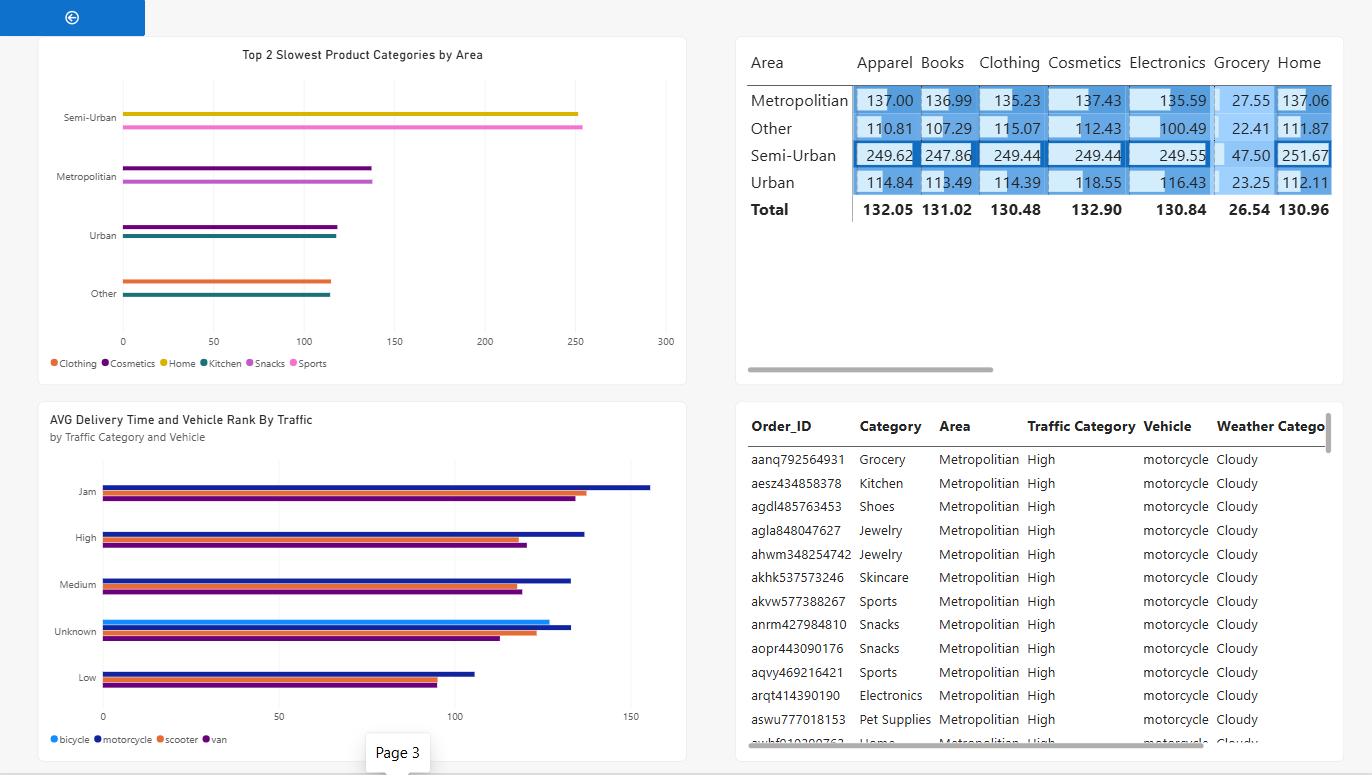

What the dashboard file says about the page in this screenshot:
{"tool":"powerbi","page":{"name":"Page 3","canvas":[1920,1080],"ordinal":2},"visuals":[{"type":"clusteredBarChart","title":"Top 2 Slowest Product Categories by Area","fields":{"Y":["Avg(amazon_delivery.Delivery_Time)"],"Series":["amazon_delivery.Category"],"Category":["amazon_delivery.Area"]},"box":[54.1,52.3,905.2,486.6],"z":0},{"type":"clusteredBarChart","fields":{"Series":["amazon_delivery.Vehicle"],"Y":["amazon_delivery.AVG Delivery Time"],"Category":["amazon_delivery.Traffic Category"]},"box":[54.1,561.6,905.2,502.3],"z":1000},{"type":"pivotTable","fields":{"Values":["amazon_delivery.AVG Delivery Time"],"Columns":["amazon_delivery.Category"],"Rows":["amazon_delivery.Area"]},"box":[1027.3,52.3,849.4,486.6],"z":1001},{"type":"tableEx","fields":{"Values":["amazon_delivery.Order_ID","amazon_delivery.Category","amazon_delivery.Area","amazon_delivery.Traffic Category","amazon_delivery.Vehicle","amazon_delivery.Weather Category","amazon_delivery.AVG Delivery Time"]},"box":[1027.3,561.6,849.4,502.3],"z":1002},{"type":"actionButton","box":[0,0,204.1,52.3],"z":1003}]}

Visuals, with their boxes on the page's 1920x1080 design canvas (x1, y1, x2, y2). These are canvas units, not pixel positions in the 1372x775 screenshot, which may show the page scaled, cropped or inside an application window:
"Top 2 Slowest Product Categories by Area" clusteredBarChart: [54,52,959,539]
clusteredBarChart - amazon_delivery.Vehicle x amazon_delivery.AVG Delivery Time: [54,562,959,1064]
pivotTable - amazon_delivery.AVG Delivery Time x amazon_delivery.Category: [1027,52,1877,539]
tableEx - amazon_delivery.Order_ID x amazon_delivery.Category: [1027,562,1877,1064]
actionButton: [0,0,204,52]
